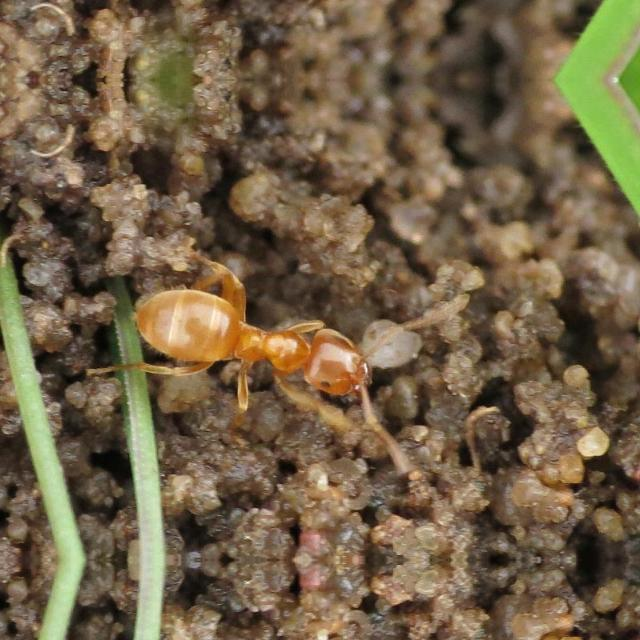Lasius: (133, 253, 421, 451)
